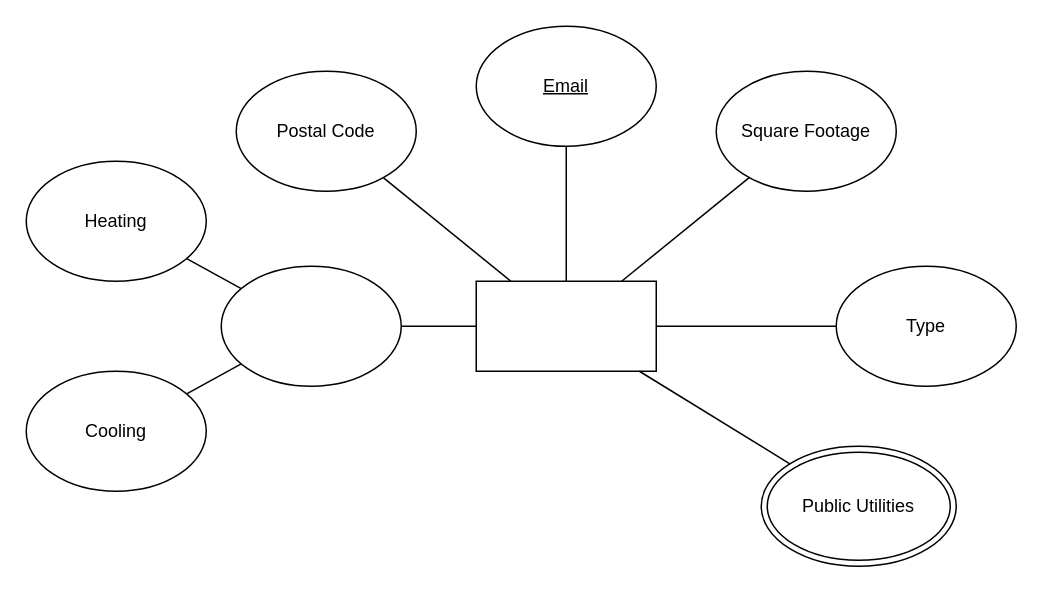
Image size: 1043x593. Some labels were removed from this diagram. Each missing label, with the centre of its shape:
"Household" belongs at pixel 565 325.
"Thermostat Setting" belongs at pixel 310 325.
